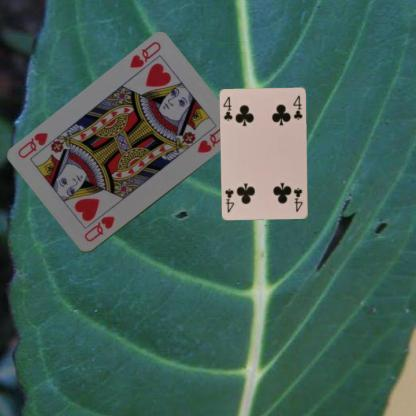4c: (291, 186, 304, 213), (221, 94, 233, 123)
Qh: (127, 39, 162, 70), (82, 213, 116, 243)
